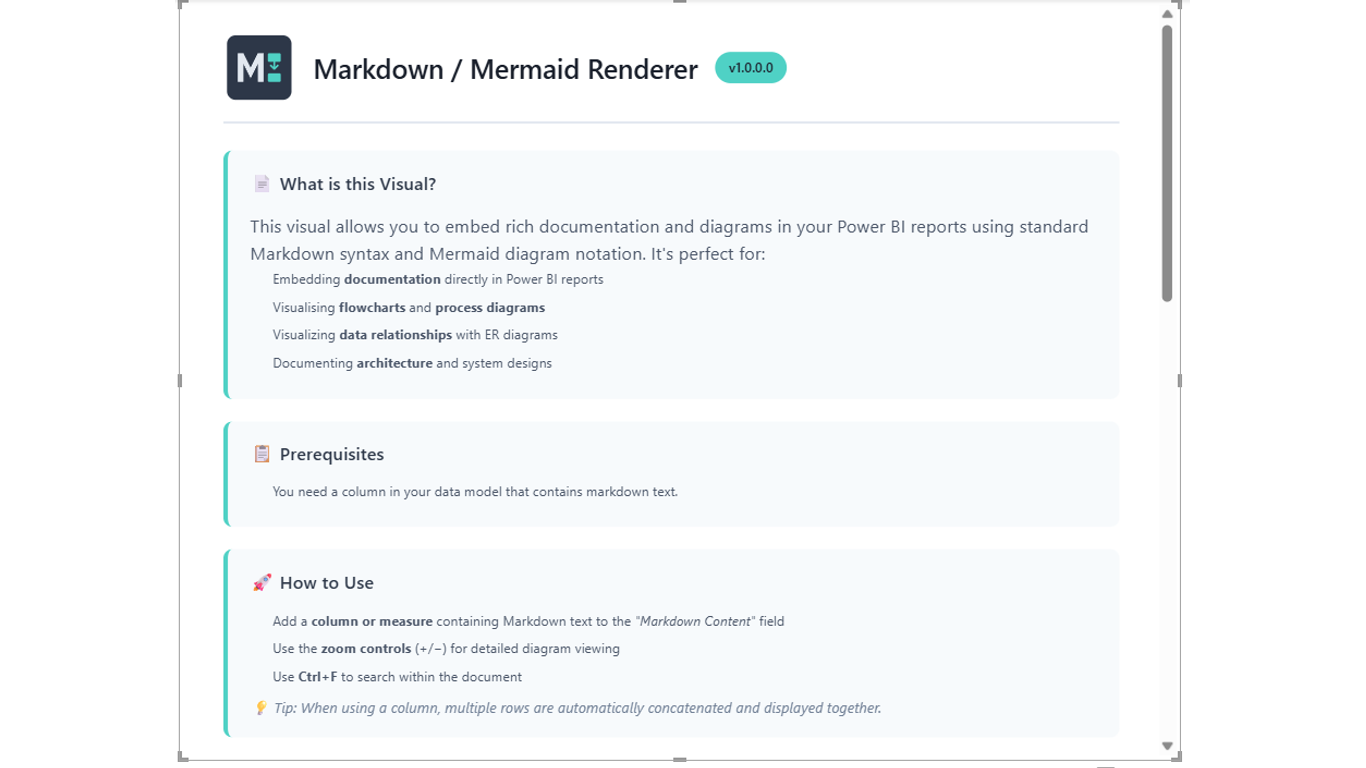

What the dashboard file says about the page in this screenshot:
{"tool":"powerbi","page":{"name":"Landing Page","canvas":[1280,720],"ordinal":0},"visuals":[{"type":"markdownMermaidRenderer","box":[9.7,0,1270.3,719.8],"z":0}]}

Visuals, with their boxes in screenshot pixels (x1, y1, x2, y2), scaled from the page's 1280x720 canvas onto the 1366x768 screenshot:
markdownMermaidRenderer: locate(10, 0, 1365, 767)
